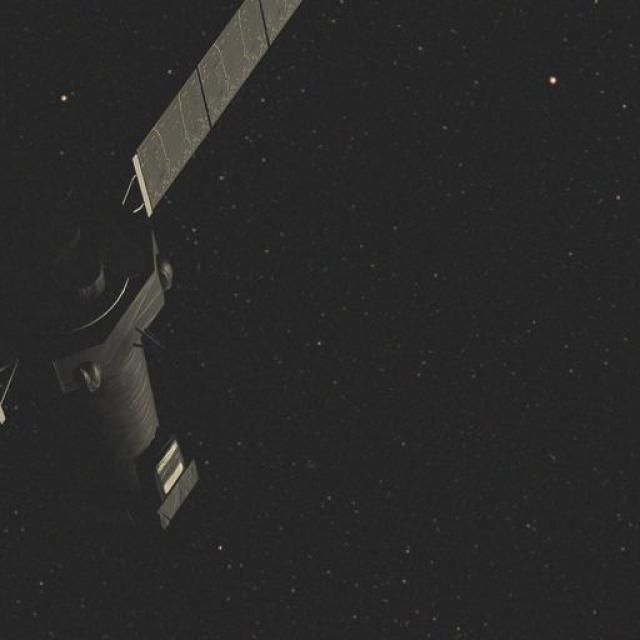xmm_newton: (22, 84, 235, 520)
